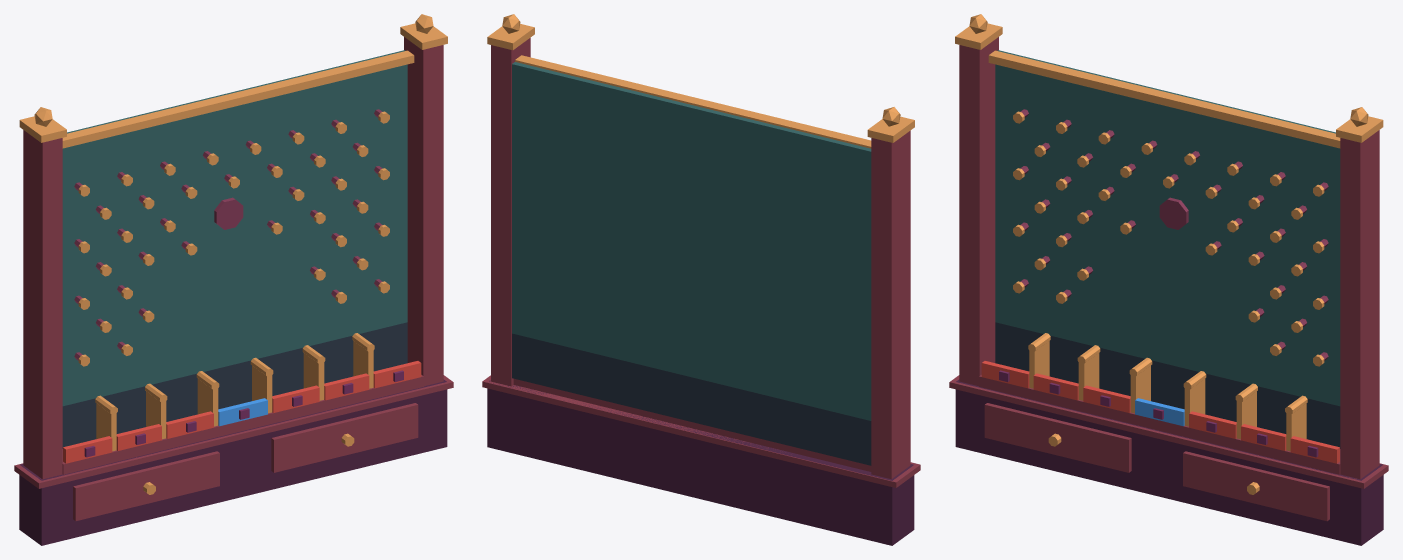
File: board.glb
The picture shows the model from 3 angles, left to right: view 1: azimuth 30°, elevation 25°; view 2: azimuth 150°, elevation 25°; view 3: azimuth 330°, elevation 25°; orthographic projection.
Visible parts, largest first — view 1: Felt, Cabinet, PostL, PostR, FeltLow, Pegs, Dividers, Drawer1, Drawer0, Rail, Tray, Top (+10 smaller); view 2: Felt, Cabinet, FeltLow, PostL, PostR, Top, Rail, Tray, CapL, CapR; view 3: Felt, Cabinet, PostR, PostL, FeltLow, Pegs, Dividers, Drawer0, Drawer1, Rail, Tray, Top (+10 smaller).
Part boxes in pixels (x1,y1,x2,y2): Felt: (62, 50, 407, 406); Cabinet: (19, 379, 447, 545); PostL: (23, 130, 62, 479); PostR: (404, 37, 443, 386); FeltLow: (62, 322, 407, 448); Pegs: (74, 109, 389, 366); Dividers: (95, 333, 374, 451); Drawer1: (271, 403, 418, 472); Drawer0: (73, 451, 219, 521); Rail: (62, 50, 414, 148); Tray: (62, 375, 423, 474); Top: (14, 375, 453, 488); Felt: (512, 62, 871, 420); Cabinet: (487, 380, 914, 545); FeltLow: (512, 333, 871, 465); PostL: (871, 130, 910, 479); PostR: (491, 38, 530, 386); Top: (482, 375, 920, 487); Rail: (515, 55, 871, 148); Tray: (513, 378, 871, 471); CapL: (867, 116, 914, 142); CapR: (487, 24, 534, 50); Felt: (995, 50, 1340, 406); Cabinet: (955, 379, 1383, 545); PostR: (1340, 130, 1379, 479); PostL: (959, 37, 998, 386); FeltLow: (995, 322, 1340, 448); Pegs: (1013, 109, 1328, 366); Dividers: (1028, 333, 1307, 451); Drawer0: (984, 403, 1131, 472); Drawer1: (1183, 451, 1329, 521); Rail: (988, 50, 1340, 148); Tray: (979, 375, 1340, 474); Top: (949, 375, 1388, 488).
Bounding box in the file's own units: 9.2 × 9.04 × 1.11.
